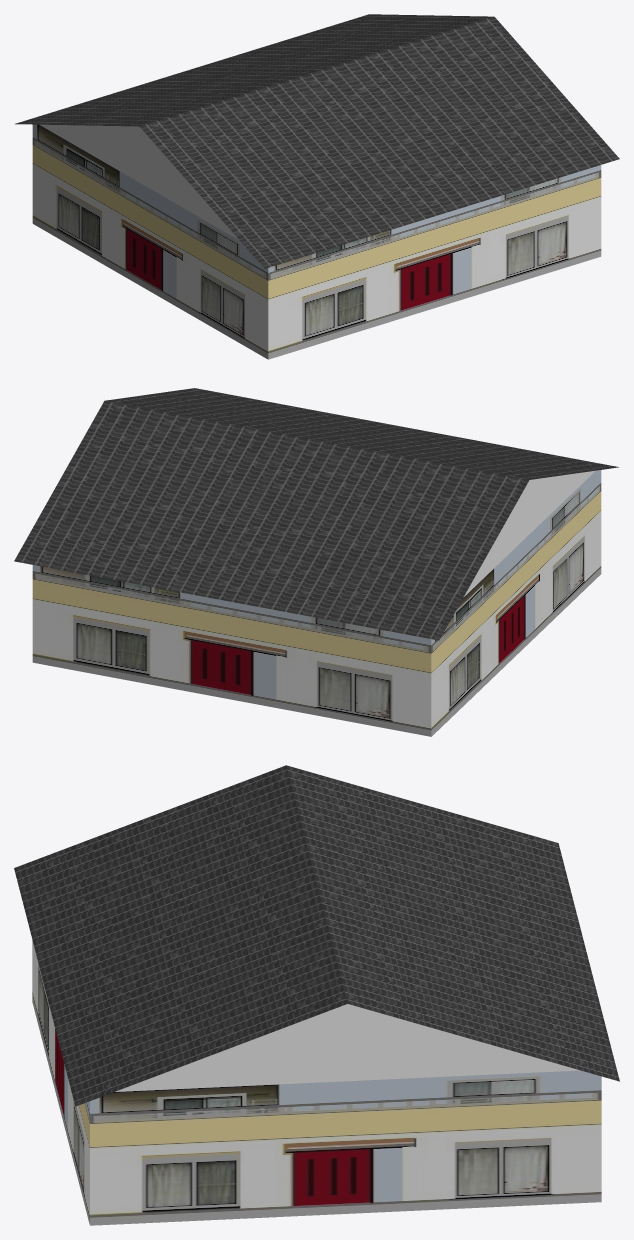
The picture shows the model from 3 angles, top to bottom: view 1: azimuth 30°, elevation 25°; view 2: azimuth 150°, elevation 25°; view 3: azimuth 270°, elevation 25°; orthographic projection. The views are drawn at different scales.
Parts seen in each view (by area): view 1: CityEngineMaterial_16_m, CityEngineMaterial_15_m, CityEngineMaterial_3_m; view 2: CityEngineMaterial_16_m, CityEngineMaterial_15_m, CityEngineMaterial_3_m; view 3: CityEngineMaterial_16_m, CityEngineMaterial_15_m, CityEngineMaterial_3_m.
Part boxes in pixels (x1,y1,x2,y2): CityEngineMaterial_16_m: [15, 14, 619, 268]; CityEngineMaterial_15_m: [32, 124, 601, 359]; CityEngineMaterial_3_m: [39, 124, 238, 239]; CityEngineMaterial_16_m: [14, 388, 618, 640]; CityEngineMaterial_15_m: [32, 470, 601, 736]; CityEngineMaterial_3_m: [463, 470, 595, 597]; CityEngineMaterial_16_m: [14, 765, 619, 1106]; CityEngineMaterial_15_m: [32, 940, 601, 1225]; CityEngineMaterial_3_m: [115, 1004, 580, 1091].
Size of the model in its own units: 35.47 by 13.65 by 34.46.
